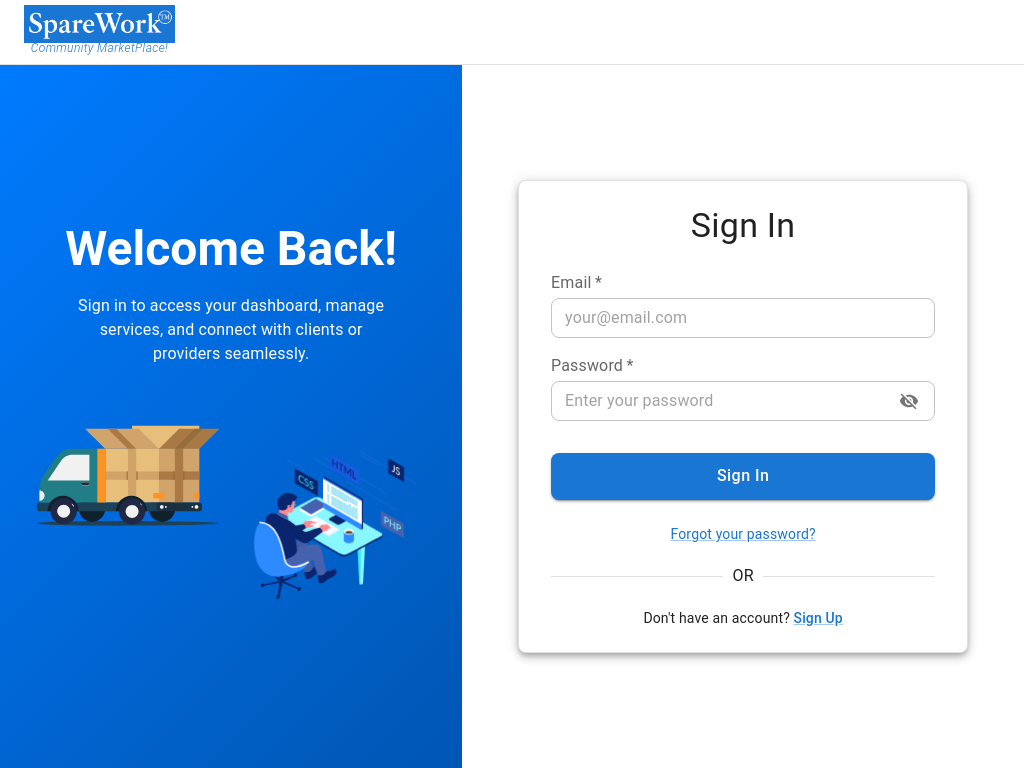
SignIn Component › shows validation errors for empty fields on submit
Click the button "Sign In".
click(743, 476)  # box x1=551 y1=453 x2=935 y2=500
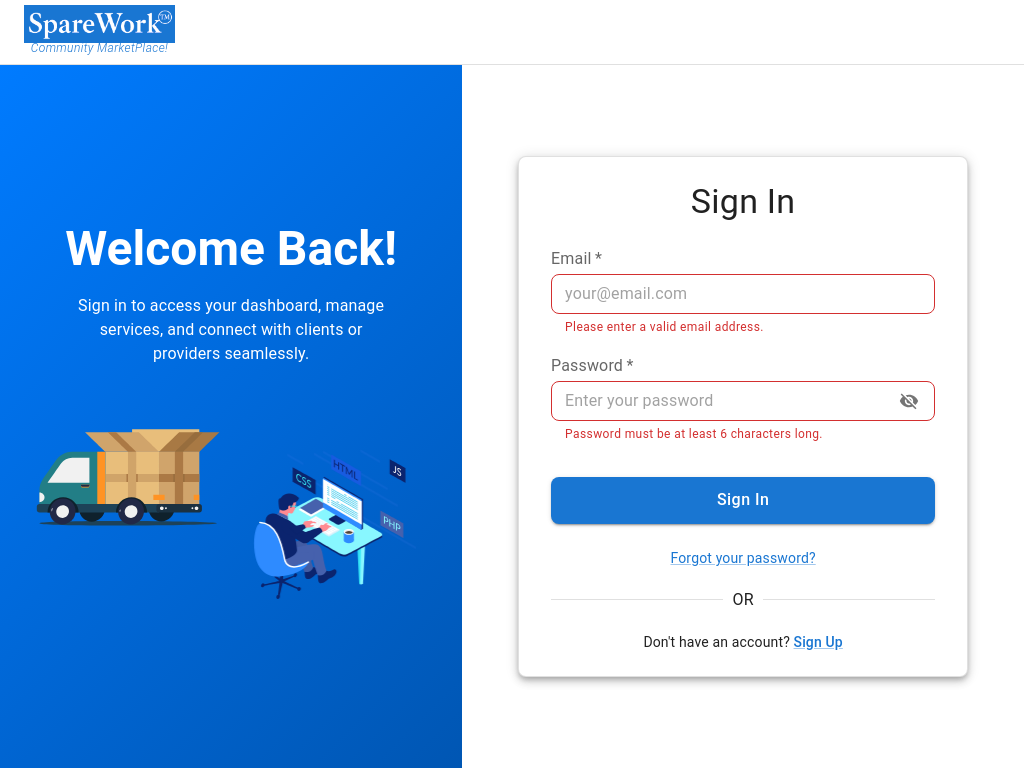
expect the text "Please enter a valid email address." is shown: met, box x1=565 y1=320 x2=764 y2=334
expect the text "Password must be at least 6 characters long." is shown: met, box x1=565 y1=427 x2=823 y2=441
